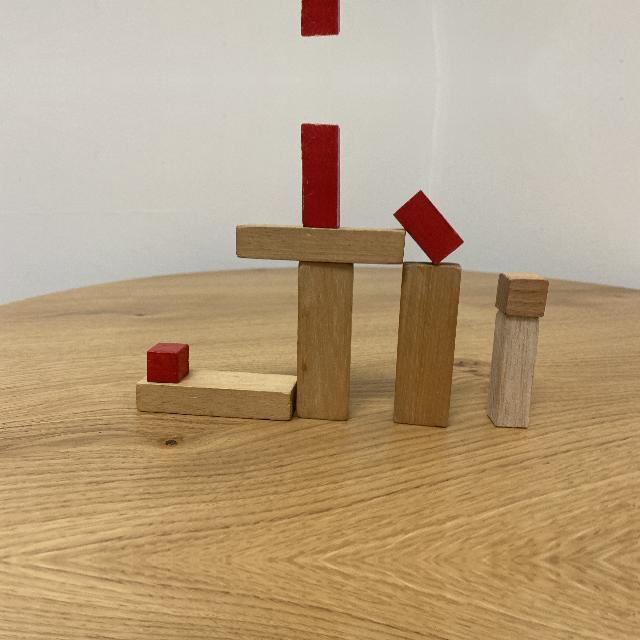block: (489, 319, 539, 426)
cube: (496, 274, 548, 316)
jenga: (394, 264, 460, 426), (296, 258, 352, 420), (136, 374, 298, 420), (236, 226, 404, 260)
red block: (395, 191, 466, 265), (303, 123, 341, 225), (303, 0, 341, 37)
red cube: (147, 343, 187, 382)
